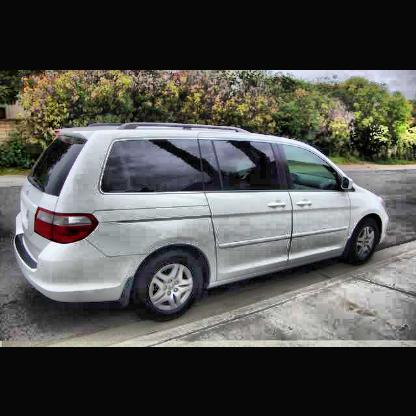Honda Odyssey Minivan 2007: (13, 120, 391, 325)
